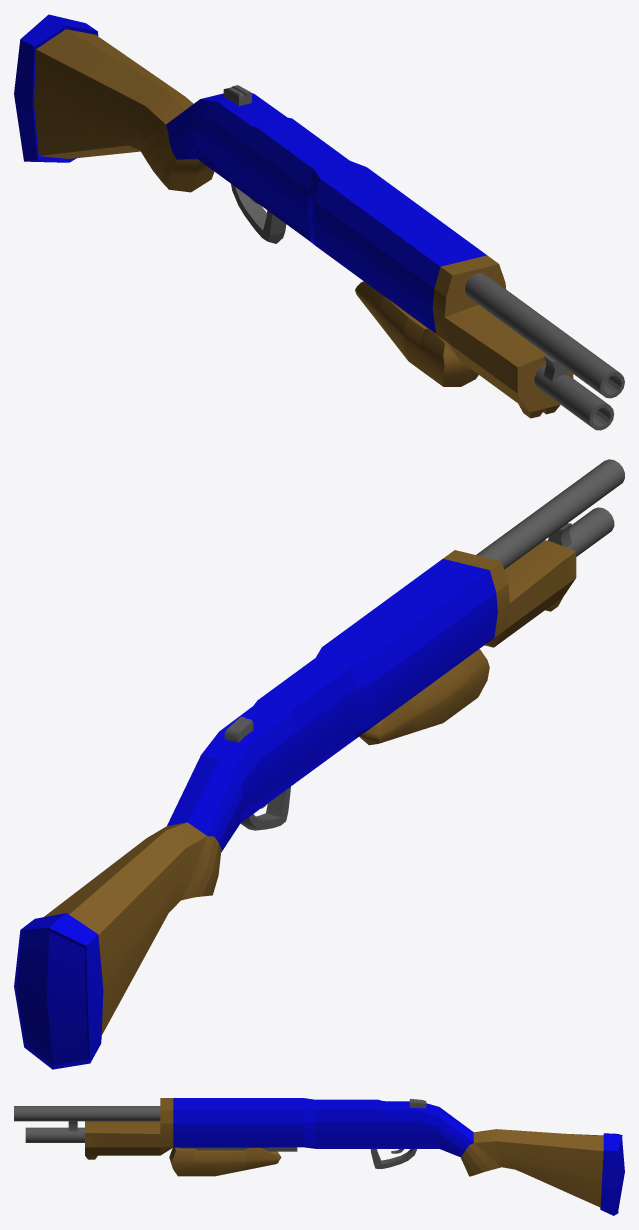
Rendered from Shotgun (2).fbx.
The picture shows the model from 3 angles, top to bottom: view 1: azimuth 30°, elevation 25°; view 2: azimuth 150°, elevation 25°; view 3: azimuth 270°, elevation 25°; orthographic projection. The views are drawn at different scales.
Visible parts, largest first — view 1: shotgun; view 2: shotgun; view 3: shotgun.
Part boxes in pixels (x1=…): shotgun: x1=14, y1=14, x2=624, y2=430; shotgun: x1=14, y1=459, x2=624, y2=1069; shotgun: x1=14, y1=1098, x2=624, y2=1215.
Bounding box in the file's own units: 1.73 × 4.69 × 23.
